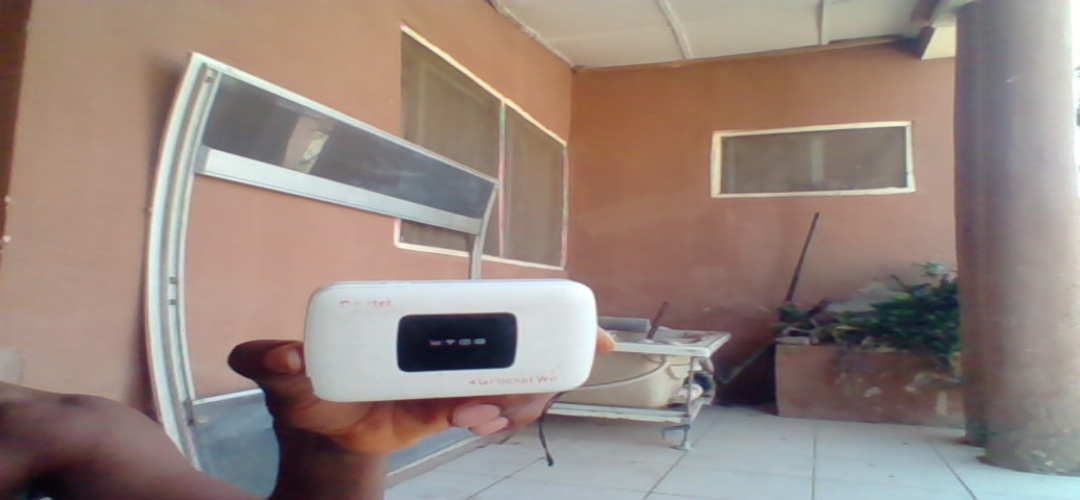mifi: (302, 279, 599, 399)
